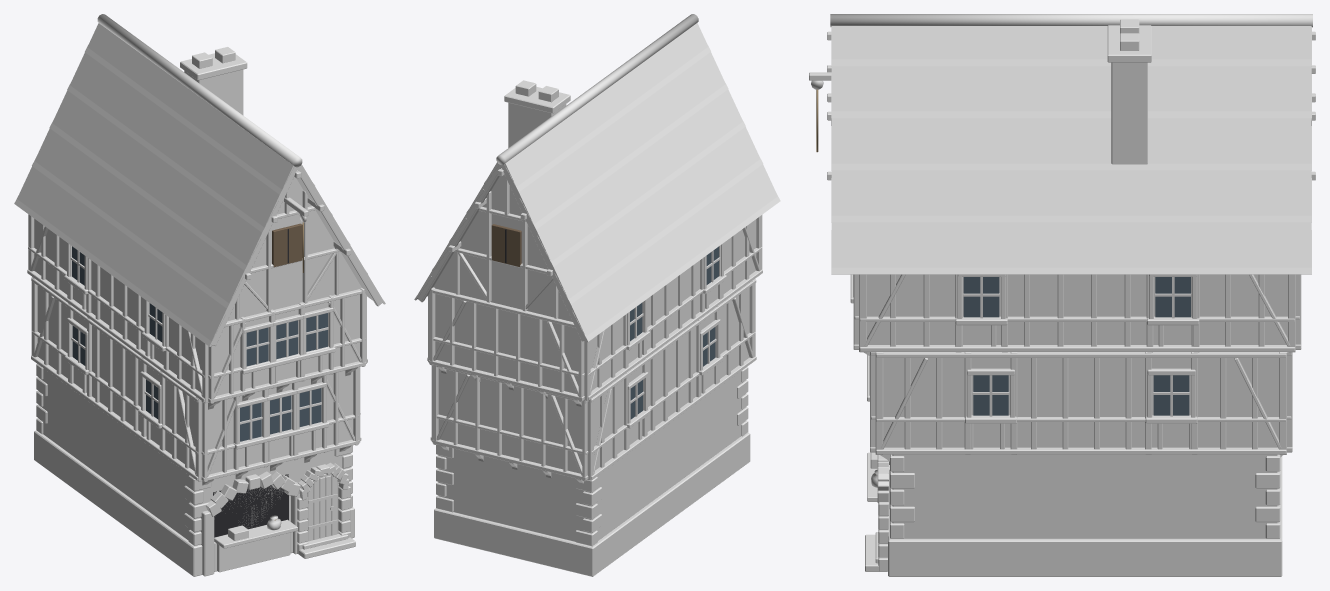
File: ville_03_pignon_haute_3etages.fbx
The picture shows the model from 3 angles, left to right: view 1: azimuth 30°, elevation 25°; view 2: azimuth 150°, elevation 25°; view 3: azimuth 270°, elevation 25°; orthographic projection. The views are drawn at different scales.
Visible parts, largest first — view 1: ville_03_pignon_haute_3etages_LOD0; view 2: ville_03_pignon_haute_3etages_LOD0; view 3: ville_03_pignon_haute_3etages_LOD0.
Part boxes in pixels (bbox=[...]): ville_03_pignon_haute_3etages_LOD0: bbox=[14, 14, 385, 576]; ville_03_pignon_haute_3etages_LOD0: bbox=[414, 14, 780, 576]; ville_03_pignon_haute_3etages_LOD0: bbox=[809, 14, 1315, 576].
Size of what is drawn, in the model's own units: 5.21 by 11.94 by 10.52.
